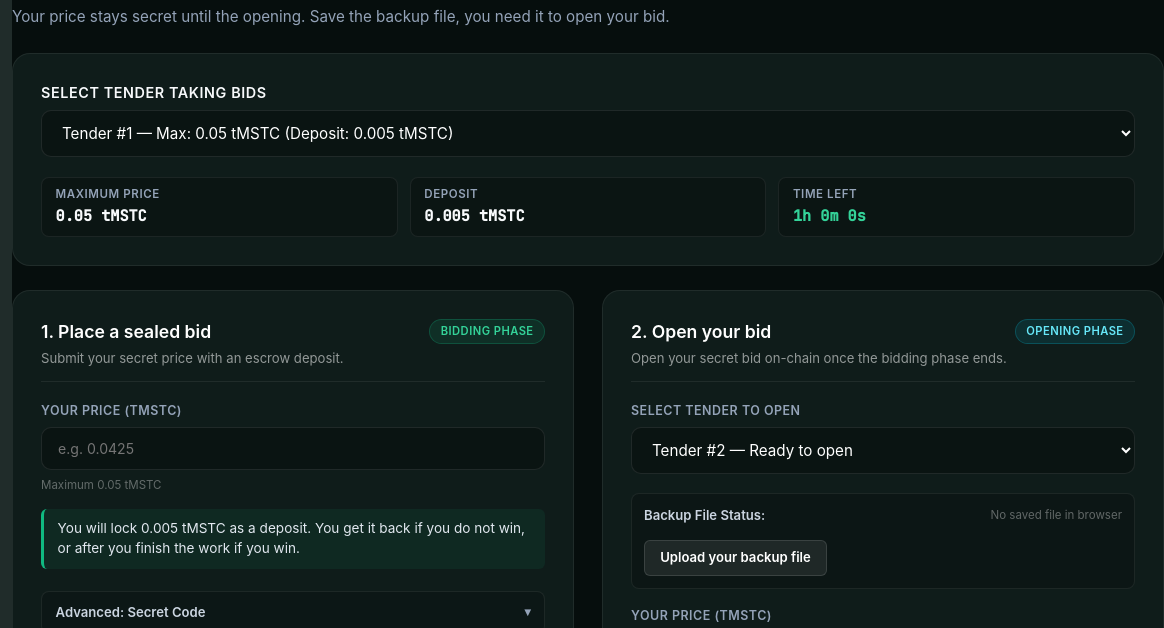
Test: Error and Security Test Suite › displays loading states and prevents duplicate clicks during in-flight transactions
The width and height of the screenshot is (1164, 628).
Type "0.04" into the number field with placeholder "e.g. 0.0425" at (293, 449), box [41,428,545,470]
(page scrolled)
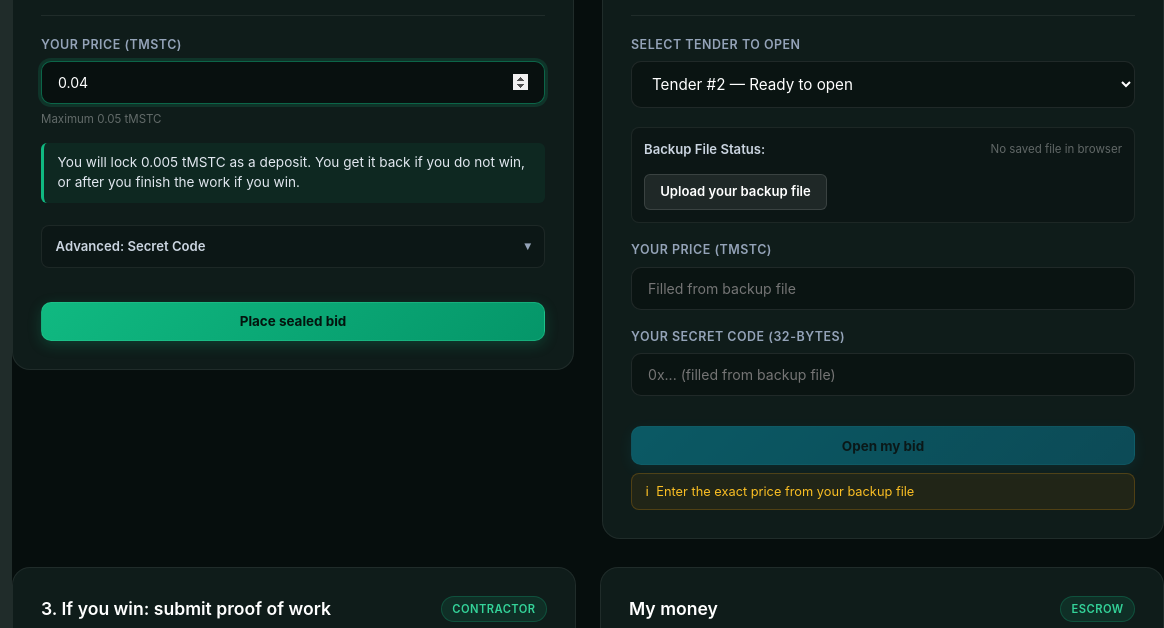
Click the button "Place sealed bid" at (293, 321), box [41,302,545,341]
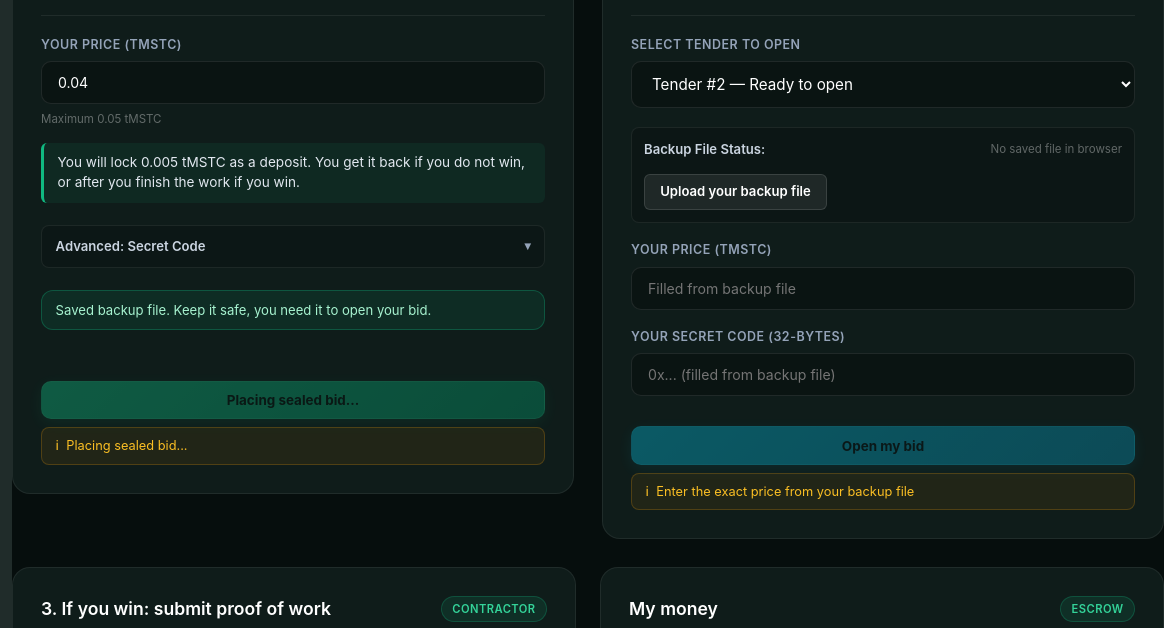
Result: the button "Placing sealed bid..." is disabled at [41,381,545,420]
